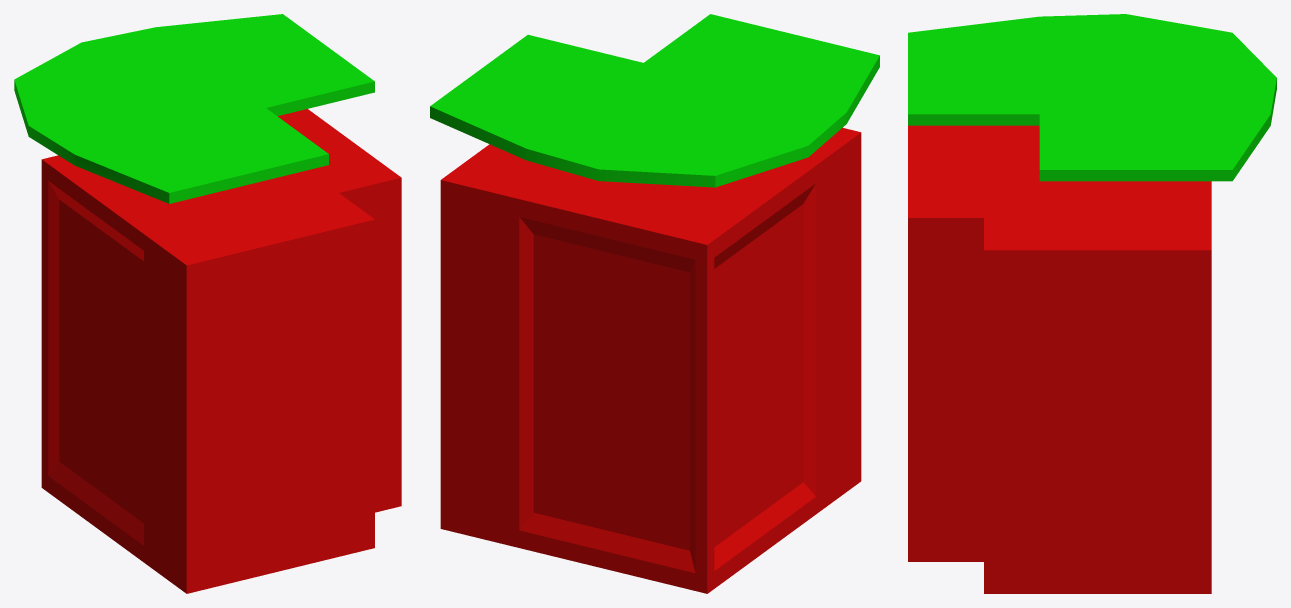
The model's file is Kundentheke_1_ecke_low.fbx.
3 renders of one model, left to right at view 1: azimuth 30°, elevation 25°; view 2: azimuth 150°, elevation 25°; view 3: azimuth 270°, elevation 25°, orthographic. The views are drawn at different scales.
Parts seen in each view (by area): view 1: Kundentheke_1_ecke_low; view 2: Kundentheke_1_ecke_low; view 3: Kundentheke_1_ecke_low.
Boxes of the visible parts, bbox=[...] form: Kundentheke_1_ecke_low: bbox=[14, 14, 401, 593]; Kundentheke_1_ecke_low: bbox=[430, 14, 879, 593]; Kundentheke_1_ecke_low: bbox=[908, 14, 1276, 593].
Size of the model in its own units: 0.9722 by 1.23 by 0.9722.
